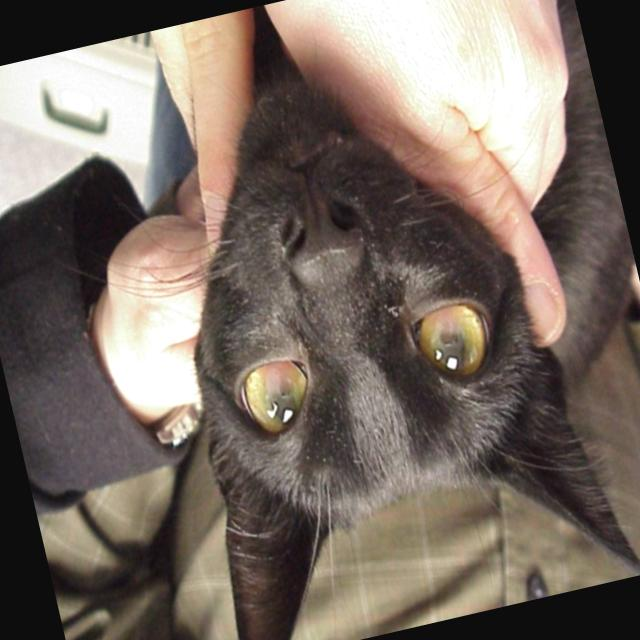cat-eye: (220, 306, 340, 450), (388, 273, 508, 397)
